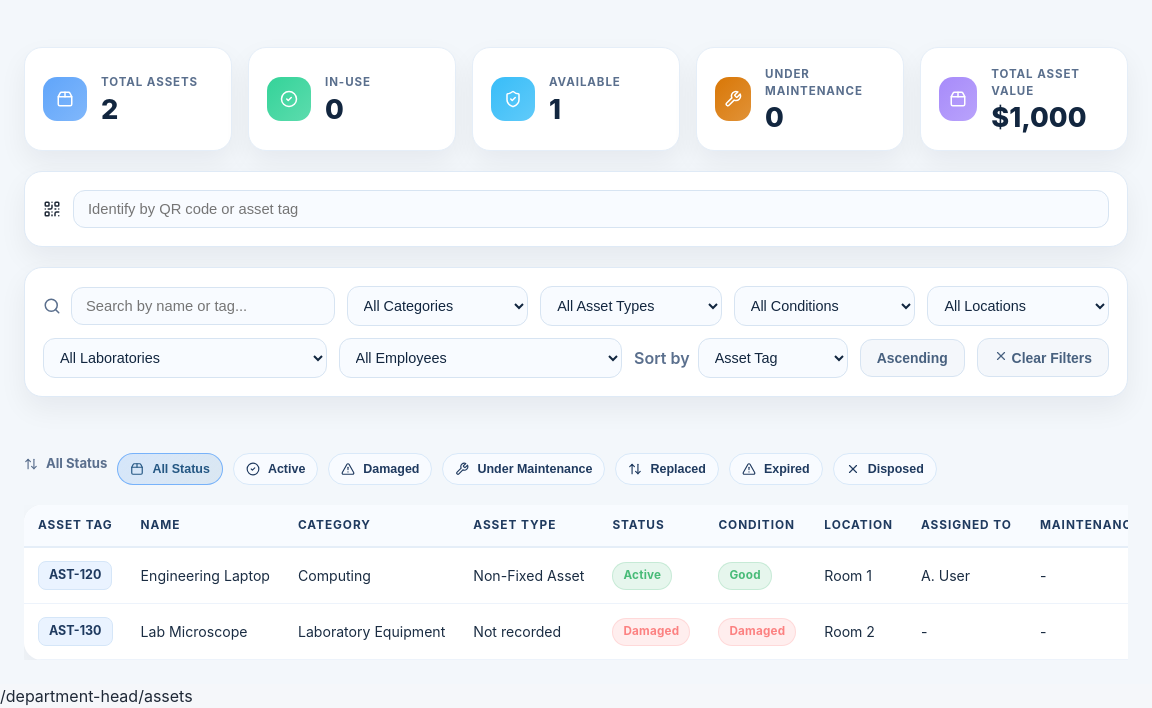
Test: Department Assets › shows scoped details, documents, and history
The image size is (1152, 708).
(page scrolled)
Click the text "Engineering Laptop" at (205, 576), box [127,547,284,604]
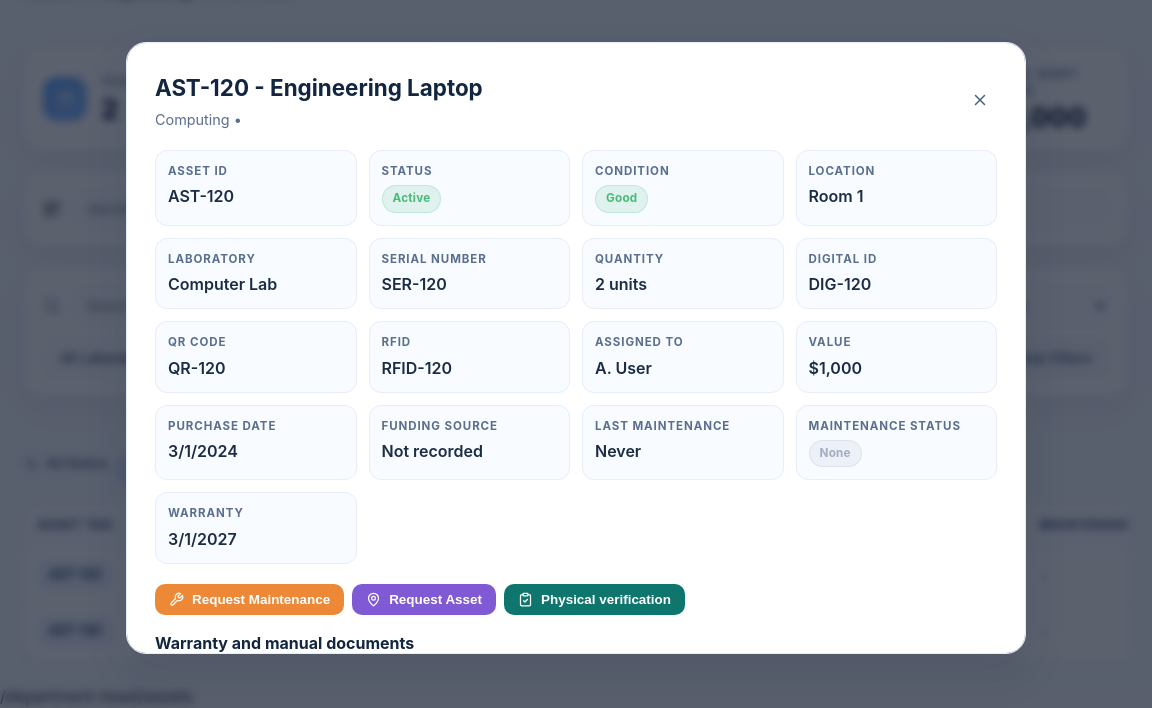
Expected: the text "QR-120" is shown, [168,358,226,378]
Expected: the text "Computer Lab" is shown 2 times
